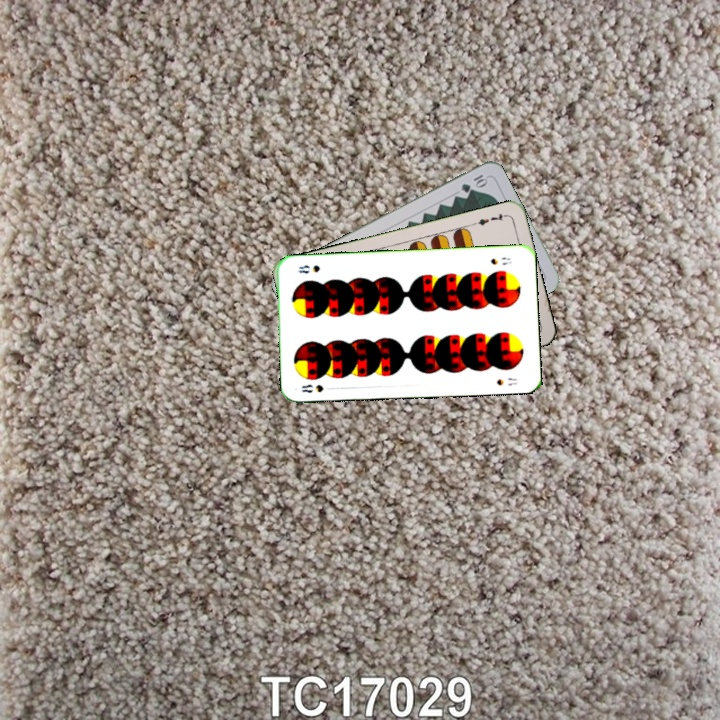E7: (469, 209, 509, 228)
G10: (457, 170, 490, 195)
S8: (298, 380, 326, 396), (487, 253, 514, 268)
